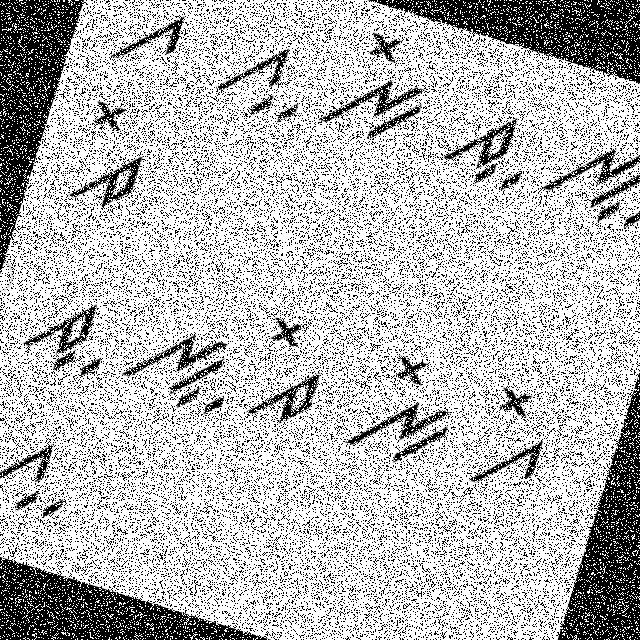gah: (190, 20, 319, 134), (0, 411, 90, 532)
go: (453, 376, 562, 506), (98, 0, 208, 84)
ngah: (109, 302, 248, 424), (534, 119, 639, 240)
ngo: (318, 17, 449, 157), (338, 339, 470, 476)
tah: (434, 86, 544, 202), (8, 275, 122, 382)
to: (239, 306, 340, 438), (58, 90, 162, 218)
